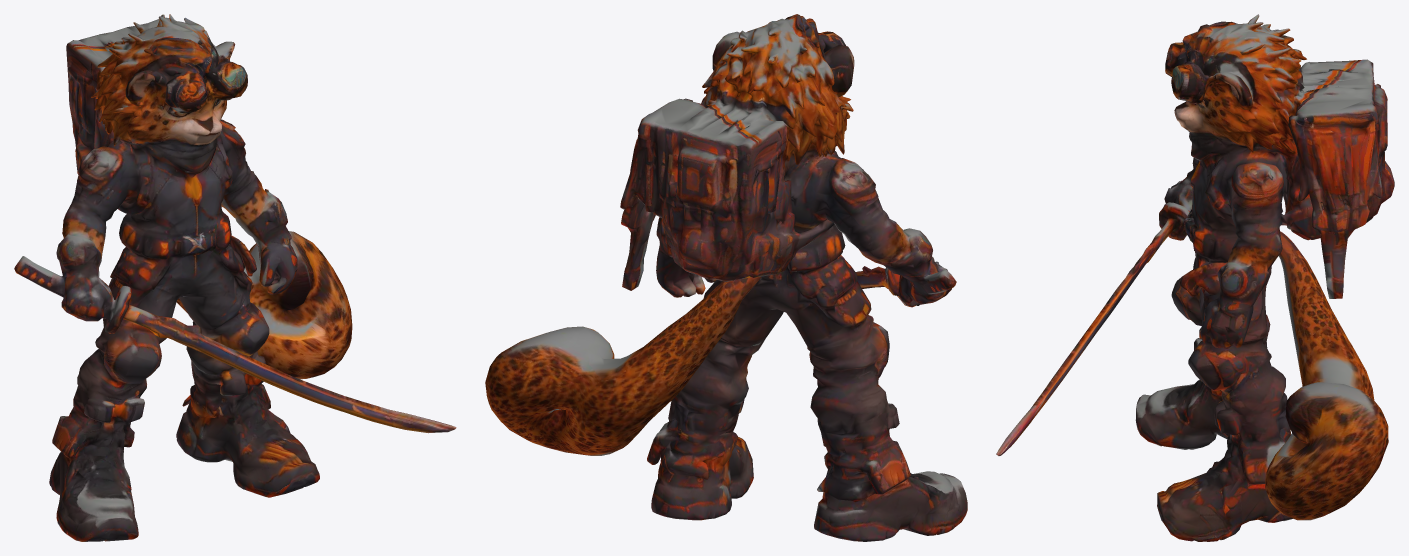
The model's file is jago.glb.
The picture shows the model from 3 angles, left to right: view 1: azimuth 30°, elevation 25°; view 2: azimuth 150°, elevation 25°; view 3: azimuth 270°, elevation 25°; orthographic projection. The views are drawn at different scales.
Parts seen in each view (by area): view 1: tripo_node_83d88dd9-23da-4de5-b27d-a85dd6c47b67; view 2: tripo_node_83d88dd9-23da-4de5-b27d-a85dd6c47b67; view 3: tripo_node_83d88dd9-23da-4de5-b27d-a85dd6c47b67.
Boxes of the visible parts, x1,y1,x2,y2 form: tripo_node_83d88dd9-23da-4de5-b27d-a85dd6c47b67: (14, 14, 456, 541); tripo_node_83d88dd9-23da-4de5-b27d-a85dd6c47b67: (485, 14, 967, 541); tripo_node_83d88dd9-23da-4de5-b27d-a85dd6c47b67: (996, 14, 1394, 541).
Size of the model in its own units: 0.8495 by 0.9996 by 0.7786.
1 material, 1 textured.
